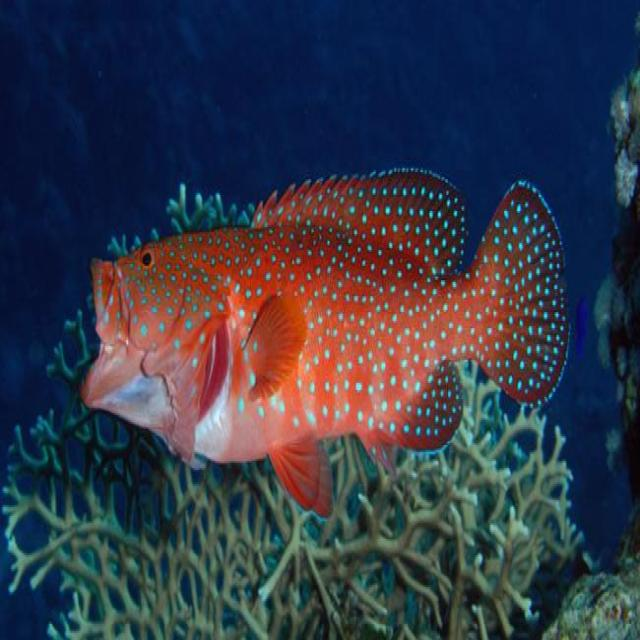ikan: (79, 163, 569, 518)
